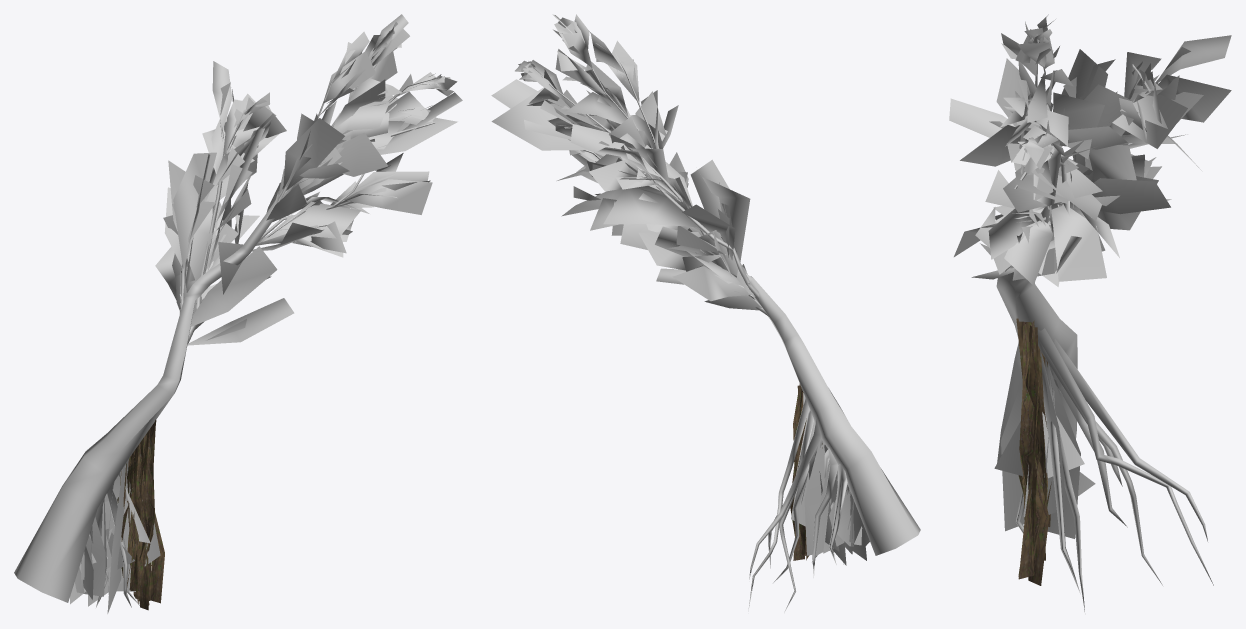
Rendered from Tree_05_1_L4.fbx.
3 views of the same model, side by side, from view 1: azimuth 30°, elevation 25°; view 2: azimuth 150°, elevation 25°; view 3: azimuth 270°, elevation 25° (orthographic). The views are drawn at different scales.
Visible parts, largest first — view 1: polySurface274; view 2: polySurface274; view 3: polySurface274.
Part boxes in pixels (<box>): polySurface274: <box>14,14,462,613</box>; polySurface274: <box>491,14,920,612</box>; polySurface274: <box>949,14,1231,611</box>.
Bounding box in the file's own units: 1073 × 1245 × 423.
